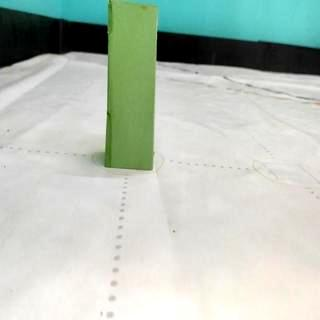greenbox: (106, 1, 158, 172)
